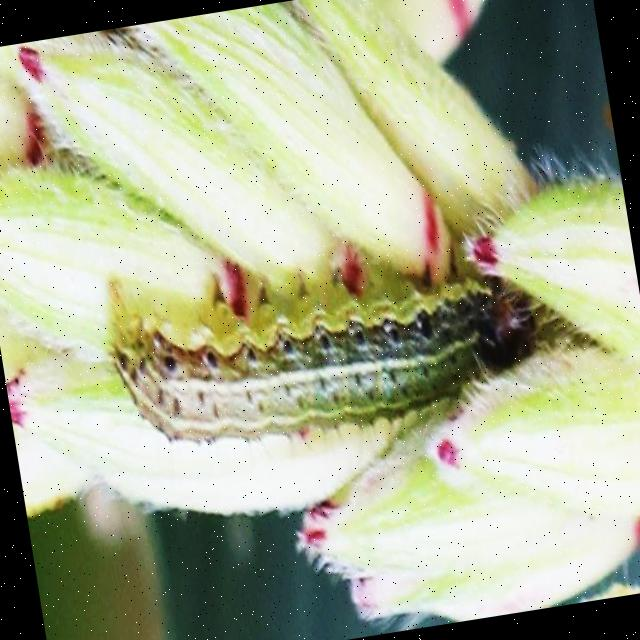worm: (99, 217, 550, 469)
